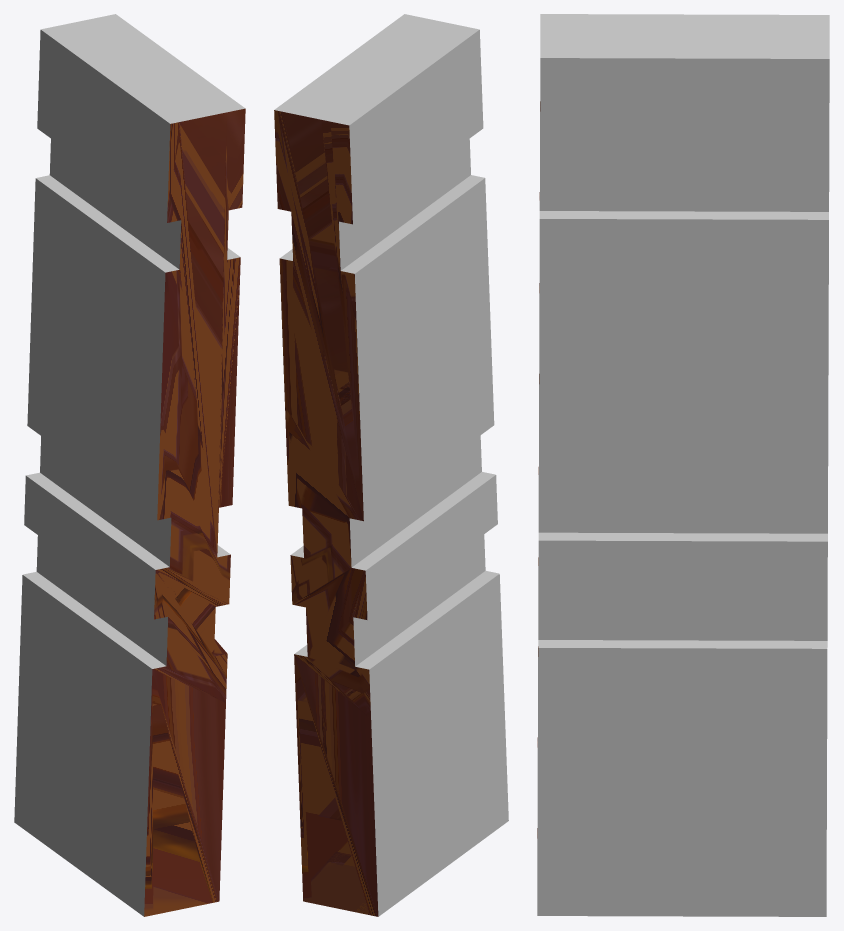
The model's file is door02.fbx.
The picture shows the model from 3 angles, left to right: view 1: azimuth 30°, elevation 25°; view 2: azimuth 150°, elevation 25°; view 3: azimuth 270°, elevation 25°; orthographic projection. The views are drawn at different scales.
Parts seen in each view (by area): view 1: Cube; view 2: Cube; view 3: Cube.
Boxes of the visible parts, <box> form: Cube: <box>14,14,245,916</box>; Cube: <box>274,14,508,916</box>; Cube: <box>537,14,829,916</box>.
Bounding box in the file's own units: 1.37 × 10.03 × 3.03.
2 materials, 1 textured.
